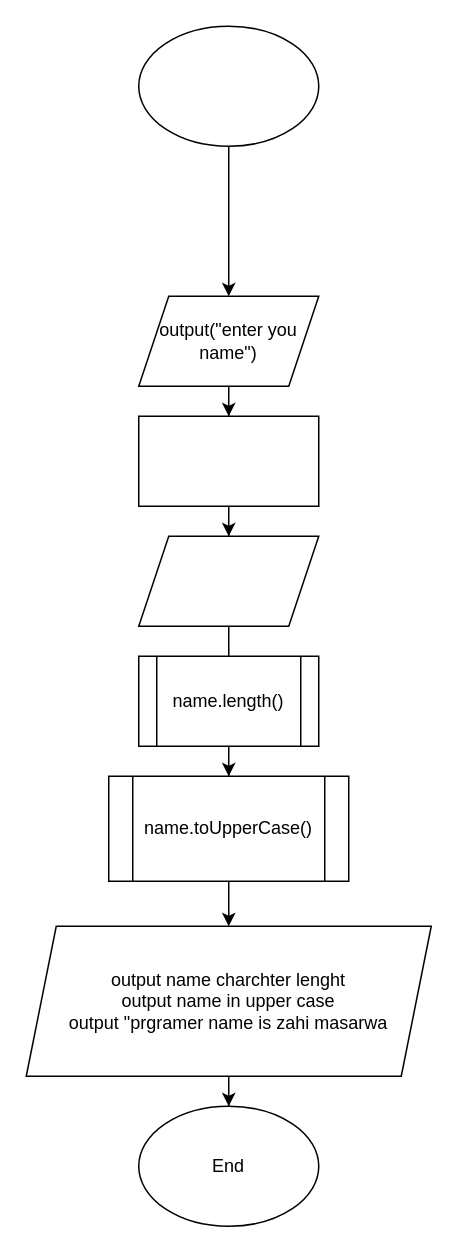
Some shapes in this 458 by 1253 pixel diagram are drawn without their labels. The shapes that lost their labels are listed below. From the top down, each one's centre as x and y in pixels, then its label:
At [228,85]: "Begin".
At [228,460]: "Declare string".
At [228,580]: "input name".
